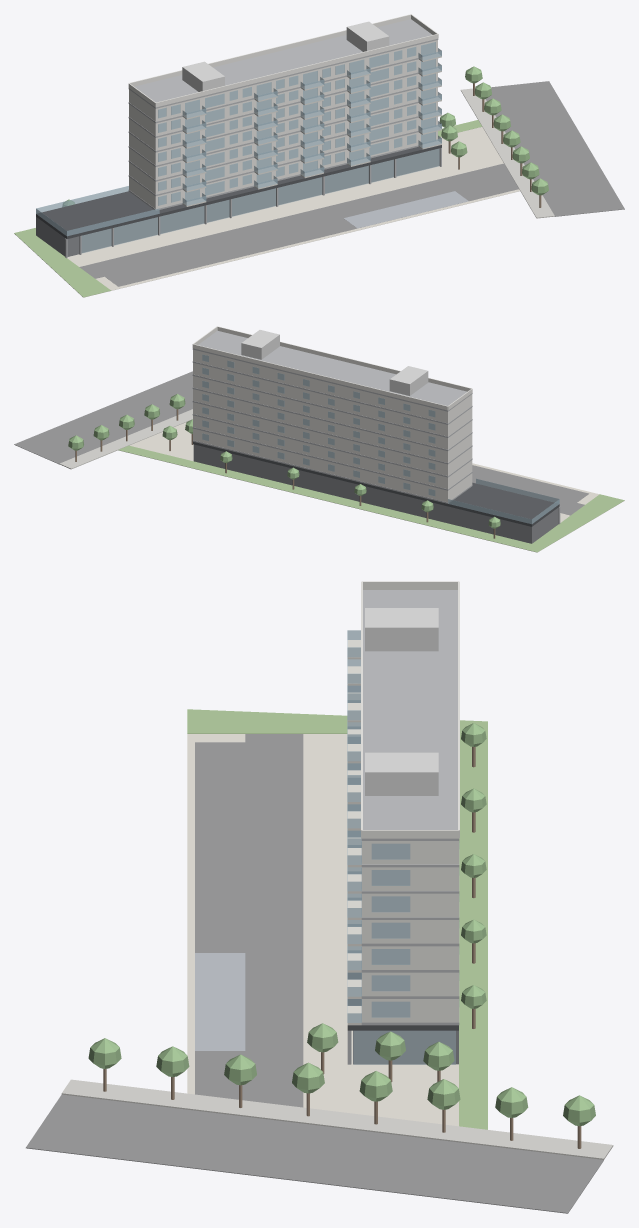
The model's file is kutle_duz.glb.
3 views of the same model, one above another, from view 1: azimuth 30°, elevation 25°; view 2: azimuth 150°, elevation 25°; view 3: azimuth 270°, elevation 25° (orthographic). The views are drawn at different scales.
Parts seen in each view (by area): view 1: cadde, arsa, arac_yolu, zemin_kat, cati_doseme, tabela_bandi, otopark, kat_7, kat_4, kat_1, kat_3, kat_6 (+54 smaller); view 2: zemin_kat, cadde, cati_doseme, kat_2, kat_6, kat_7, kat_3, kat_1, kat_5, kat_4, tabela_bandi, yesil_kuzey (+23 smaller); view 3: cadde, arsa, arac_yolu, cati_doseme, otopark, yesil_kuzey, kaldirim, rampa, yesil_arka, cati_cikisi_CB, cati_cikisi_CA, cati_parapet (+14 smaller).
Part boxes in pixels (left/top/right/bottom): cadde: left=486, top=81, right=624, bottom=216; arsa: left=14, top=127, right=519, bottom=297; arac_yolu: left=79, top=163, right=511, bottom=278; zemin_kat: left=36, top=148, right=439, bottom=256; cati_doseme: left=128, top=19, right=438, bottom=108; tabela_bandi: left=36, top=145, right=441, bottom=238; otopark: left=105, top=177, right=518, bottom=286; kat_7: left=129, top=40, right=437, bottom=121; kat_4: left=129, top=87, right=437, bottom=165; kat_1: left=129, top=131, right=437, bottom=208; kat_3: left=129, top=102, right=437, bottom=179; kat_6: left=129, top=58, right=437, bottom=136; zemin_kat: left=193, top=444, right=558, bottom=543; cadde: left=14, top=371, right=192, bottom=464; cati_doseme: left=192, top=330, right=472, bottom=411; kat_2: left=193, top=415, right=472, bottom=489; kat_6: left=193, top=363, right=472, bottom=436; kat_7: left=193, top=349, right=472, bottom=423; kat_3: left=193, top=402, right=472, bottom=475; kat_1: left=193, top=428, right=472, bottom=502; kat_5: left=193, top=376, right=472, bottom=449; kat_4: left=193, top=389, right=472, bottom=462; tabela_bandi: left=193, top=442, right=559, bottom=526; yesil_kuzey: left=118, top=445, right=545, bottom=552; cadde: left=26, top=1094, right=603, bottom=1213; arsa: left=187, top=734, right=458, bottom=1126; arac_yolu: left=245, top=734, right=303, bottom=1107; cati_doseme: left=361, top=590, right=459, bottom=840; otopark: left=195, top=742, right=245, bottom=1100; yesil_kuzey: left=459, top=720, right=487, bottom=1129; kaldirim: left=61, top=1079, right=613, bottom=1159; rampa: left=195, top=953, right=245, bottom=1050; yesil_arka: left=187, top=709, right=347, bottom=733; cati_cikisi_CB: left=365, top=608, right=438, bottom=651; cati_cikisi_CA: left=365, top=752, right=438, bottom=795; cati_parapet: left=361, top=581, right=459, bottom=838.
Bounding box in the file's own units: 123 × 28.6 × 60.67.
